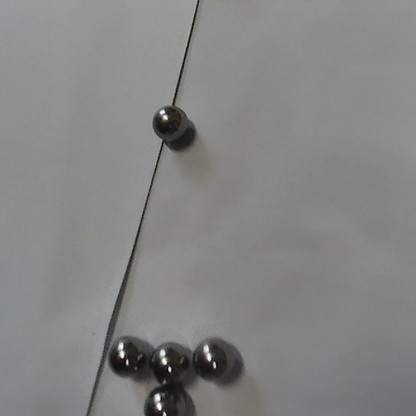ironball: (149, 103, 188, 141), (150, 344, 187, 383), (142, 384, 187, 416), (107, 337, 144, 375), (193, 342, 226, 376)
